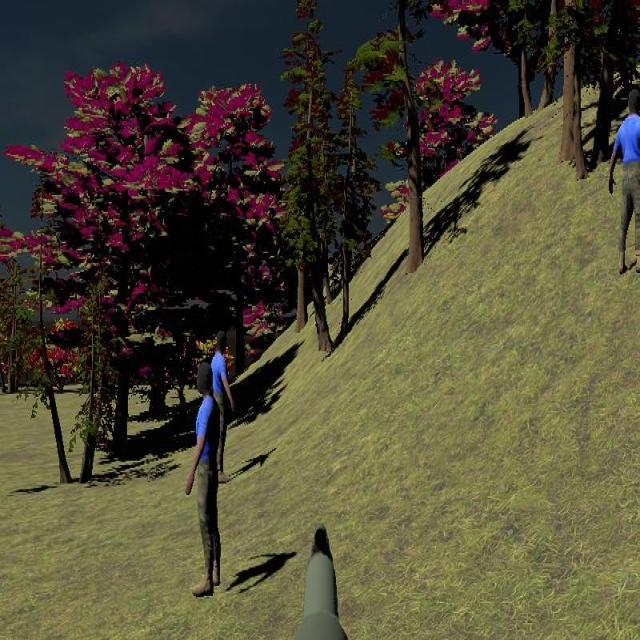Human: (185, 361, 221, 593), (608, 86, 640, 274), (210, 328, 235, 485)
